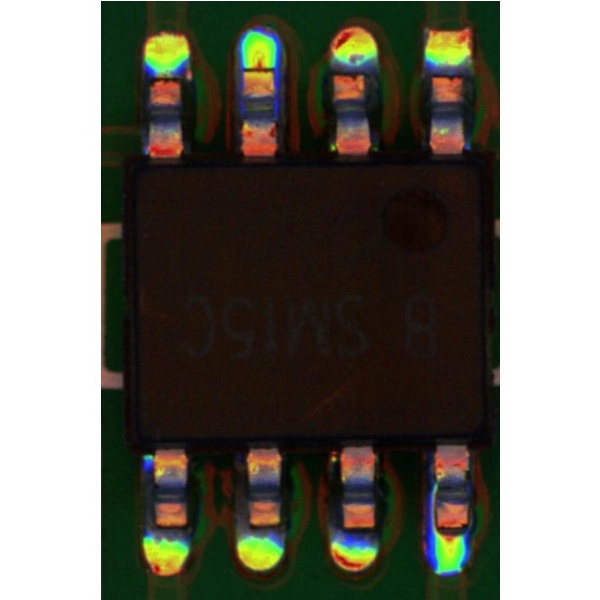Bad_podu: (435, 519, 462, 544), (243, 58, 271, 80)
Bad_qiaojiao: (427, 477, 435, 527)
